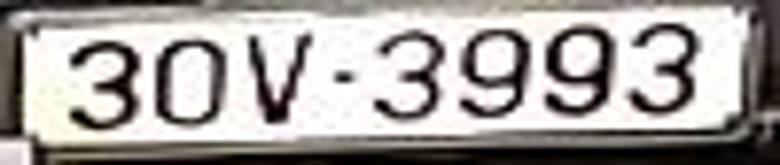-: (331, 67, 359, 86)
0: (151, 39, 228, 127)
3: (629, 18, 700, 119), (68, 37, 141, 134), (374, 28, 443, 122)
9: (456, 29, 533, 120), (544, 24, 616, 121)
V: (244, 29, 317, 124)
